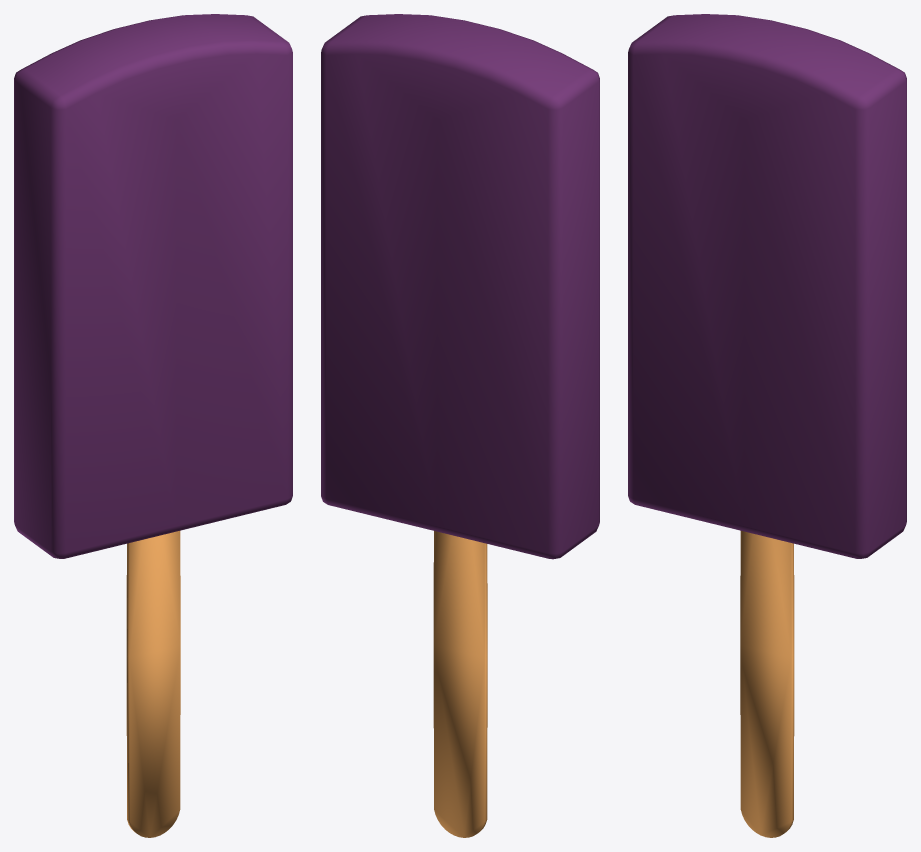
File: CandyBar.fbx
3 views of the same model, side by side, from view 1: azimuth 30°, elevation 25°; view 2: azimuth 150°, elevation 25°; view 3: azimuth 330°, elevation 25° (orthographic).
Visible parts, largest first — view 1: Cube.008, Circle.006; view 2: Cube.008, Circle.006; view 3: Cube.008, Circle.006.
Boxes of the visible parts, left/top/right/bottom form: Cube.008: left=14, top=14, right=292, bottom=558; Circle.006: left=126, top=531, right=180, bottom=837; Cube.008: left=321, top=14, right=599, bottom=559; Circle.006: left=433, top=531, right=487, bottom=837; Cube.008: left=628, top=14, right=906, bottom=558; Circle.006: left=740, top=531, right=794, bottom=837.
Size of the model in its own units: 167 by 529 by 55.68.
